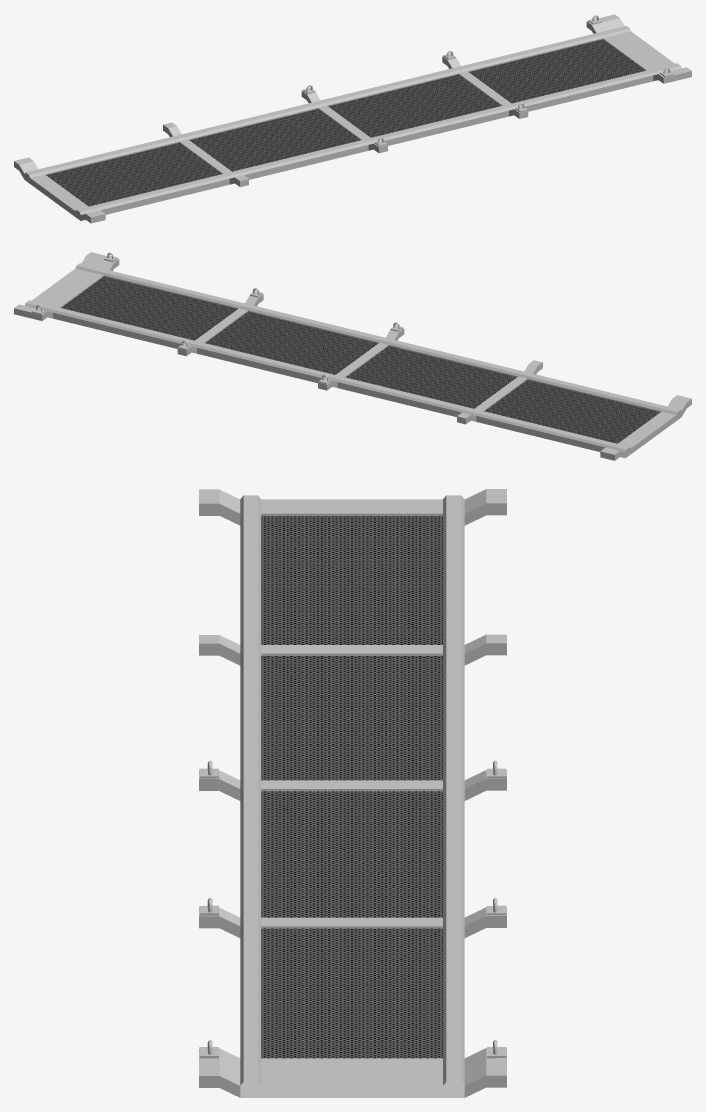
File: walkway_001.FBX
3 views of the same model, one above another, from view 1: azimuth 30°, elevation 25°; view 2: azimuth 150°, elevation 25°; view 3: azimuth 270°, elevation 25° (orthographic). The views are drawn at different scales.
Visible parts, largest first — view 1: walkway_001; view 2: walkway_001; view 3: walkway_001.
Boxes of the visible parts, x1,y1,x2,y2 form: walkway_001: (14,14,691,223); walkway_001: (14,252,691,460); walkway_001: (199,489,506,1097).
Size of the model in its own units: 1739 by 49.83 by 386.
